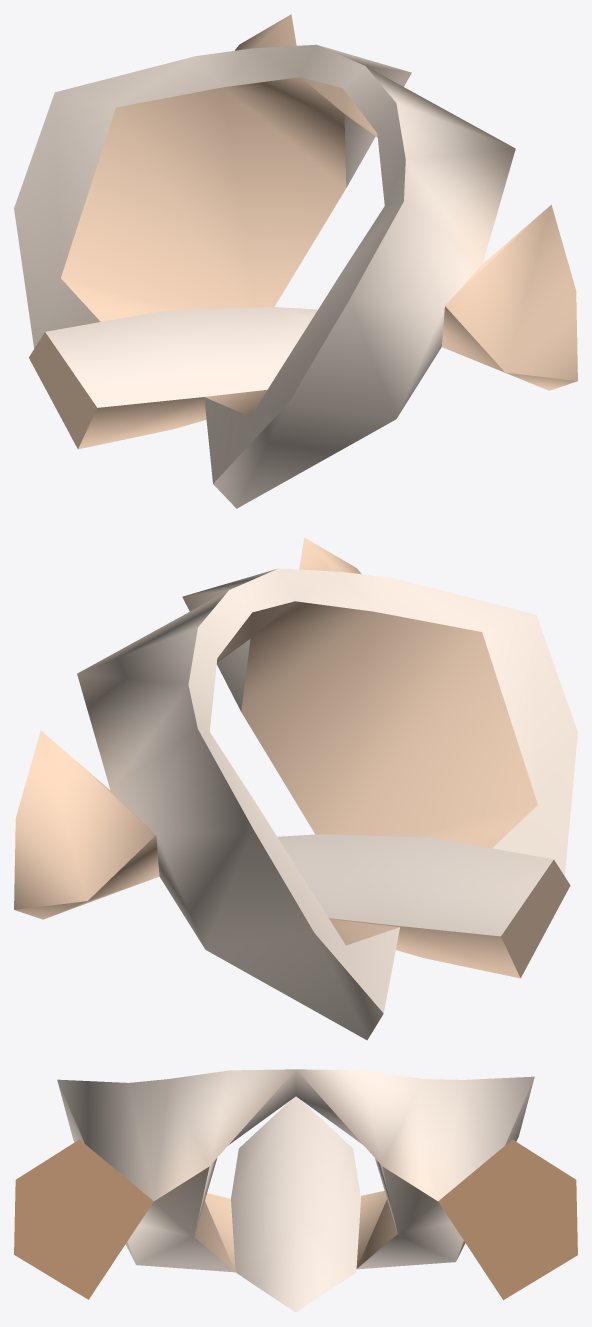
Rendered from Bone_7_color_2.FBX.
3 views of the same model, one above another, from view 1: azimuth 30°, elevation 25°; view 2: azimuth 150°, elevation 25°; view 3: azimuth 270°, elevation 25° (orthographic). The views are drawn at different scales.
Visible parts, largest first — view 1: Bone; view 2: Bone; view 3: Bone.
Part boxes in pixels (x1=…): Bone: x1=14, y1=14, x2=577, y2=508; Bone: x1=14, y1=537, x2=577, y2=1040; Bone: x1=14, y1=1069, x2=577, y2=1312.
Bounding box in the file's own units: 0.6377 × 0.4685 × 0.8932.
